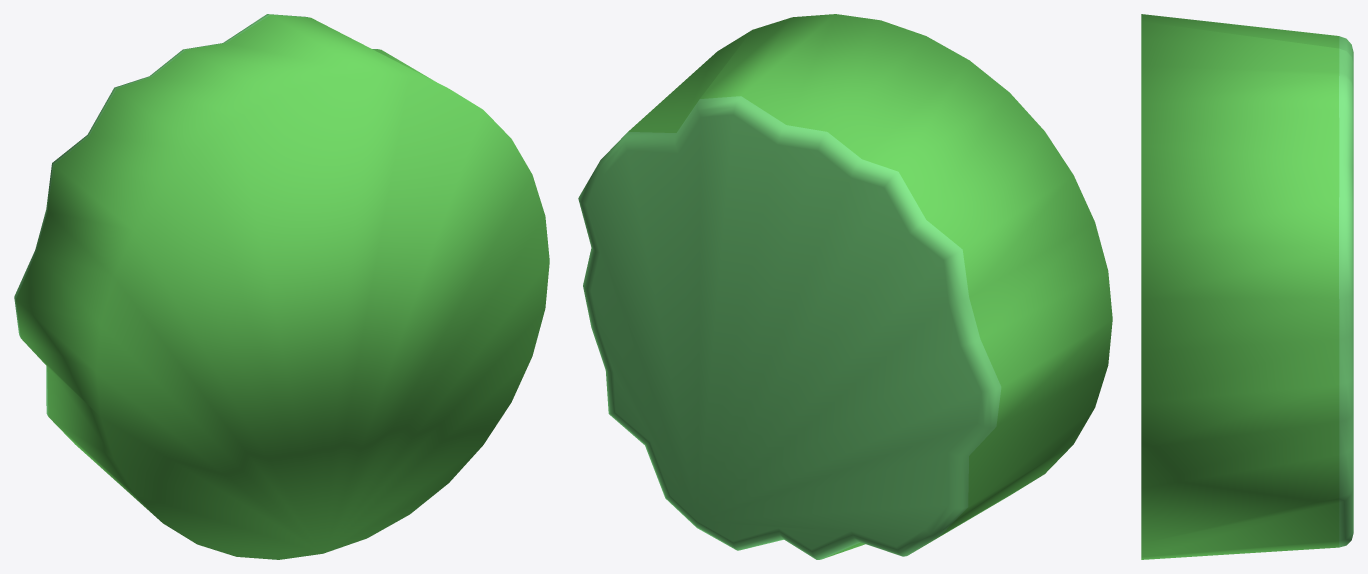
Rendered from SaveTheCrowd.fbx.
3 renders of one model, left to right at view 1: azimuth 30°, elevation 25°; view 2: azimuth 150°, elevation 25°; view 3: azimuth 270°, elevation 25°, orthographic. The views are drawn at different scales.
Visible parts, largest first — view 1: Cylinder.001; view 2: Cylinder.001; view 3: Cylinder.001.
Boxes of the visible parts, x1,y1,x2,y2 form: Cylinder.001: [14, 14, 549, 559]; Cylinder.001: [578, 14, 1112, 559]; Cylinder.001: [1141, 14, 1353, 559].
Bounding box in the file's own units: 2.27 × 2.27 × 0.8829.
